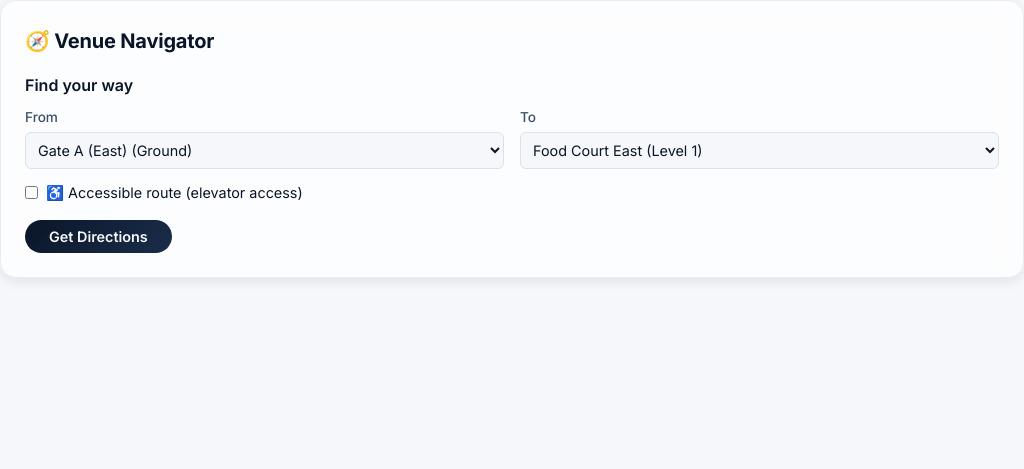
it: VenueNavigator › shows directions after form submission
The image size is (1024, 469).
Click the button "Get Directions".
click(98, 237)  # box [25,220,172,253]
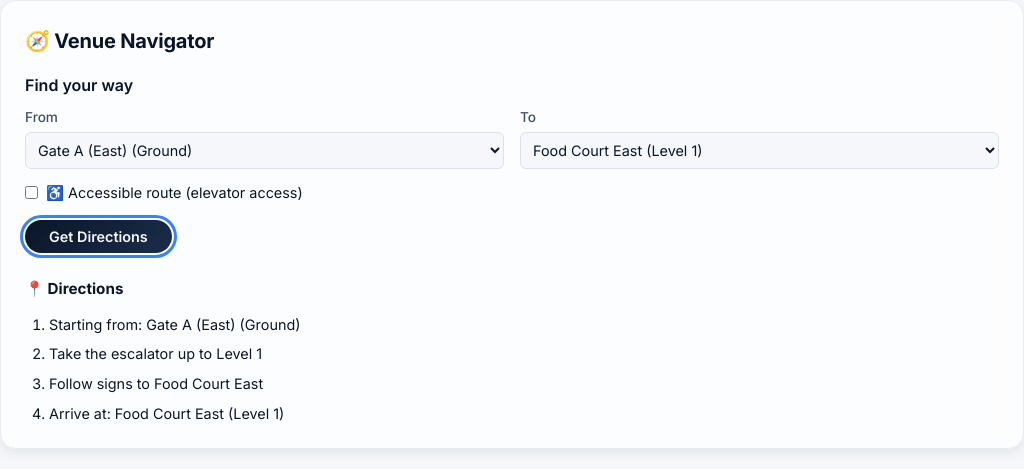
Result: the list item "Starting from: Gate A (East) (Ground)" is shown at [49,316,300,333]
Result: the list item "Arrive at: Food Court East (Level 1)" is shown at [49,404,284,422]
